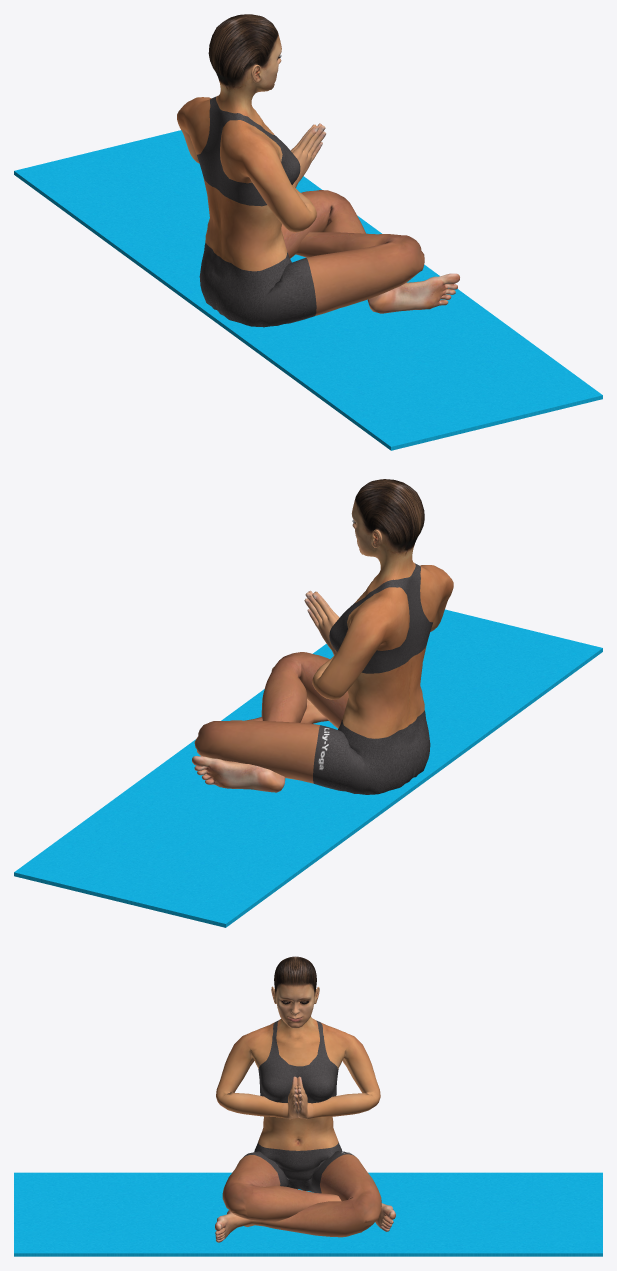
The model's file is sukhasana.glb.
3 views of the same model, one above another, from view 1: azimuth 30°, elevation 25°; view 2: azimuth 150°, elevation 25°; view 3: azimuth 270°, elevation 25° (orthographic). The views are drawn at different scales.
Parts seen in each view (by area): view 1: Mat-one-piece_jpg-material, Lily_Texture01_06_2016_jpg-material; view 2: Mat-one-piece_jpg-material, Lily_Texture01_06_2016_jpg-material; view 3: Mat-one-piece_jpg-material, Lily_Texture01_06_2016_jpg-material.
Boxes of the visible parts, bbox=[...] form: Mat-one-piece_jpg-material: bbox=[14, 130, 602, 450]; Lily_Texture01_06_2016_jpg-material: bbox=[177, 14, 459, 327]; Mat-one-piece_jpg-material: bbox=[14, 609, 602, 927]; Lily_Texture01_06_2016_jpg-material: bbox=[192, 479, 453, 794]; Mat-one-piece_jpg-material: bbox=[14, 1172, 602, 1256]; Lily_Texture01_06_2016_jpg-material: bbox=[215, 956, 395, 1242].
Size of the model in its own units: 2 by 2.64 by 6.17.
Materials: 3 (2 with a texture image).
